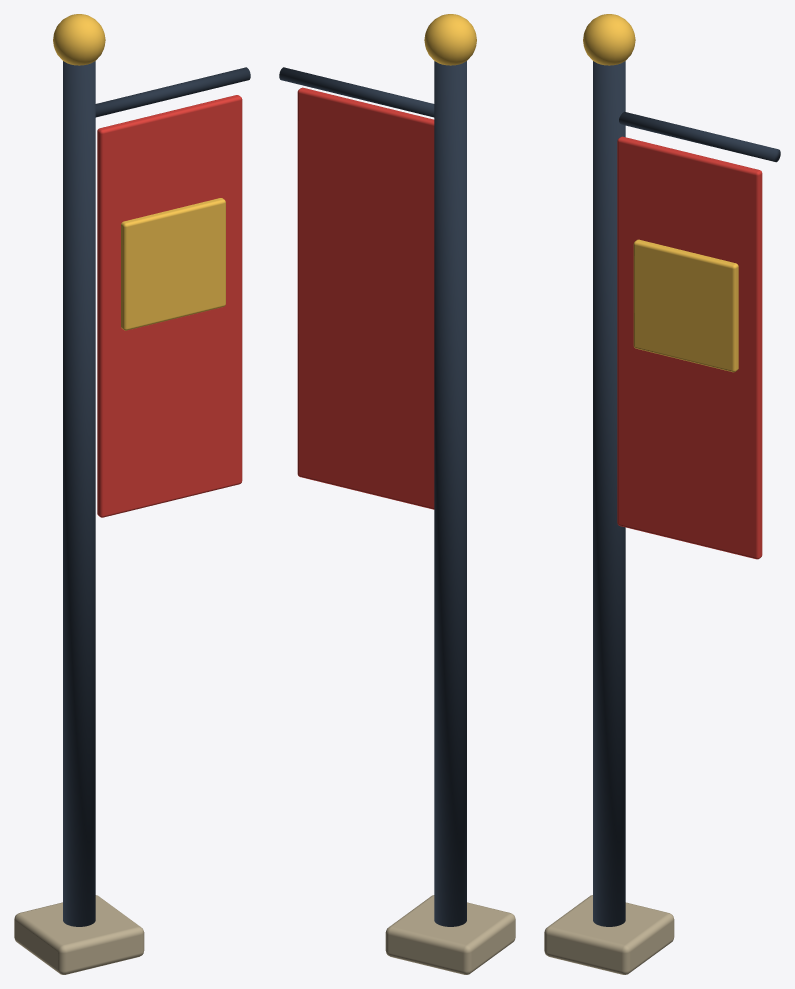
The model's file is banner.glb.
3 renders of one model, left to right at view 1: azimuth 30°, elevation 25°; view 2: azimuth 150°, elevation 25°; view 3: azimuth 330°, elevation 25°, orthographic.
Visible parts, largest first — view 1: banner; view 2: banner; view 3: banner.
Boxes of the visible parts, x1,y1,x2,y2 form: banner: (14,14,250,974); banner: (279,14,515,974); banner: (544,14,780,974).
Bounding box in the file's own units: 0.74 × 3.13 × 0.3.
